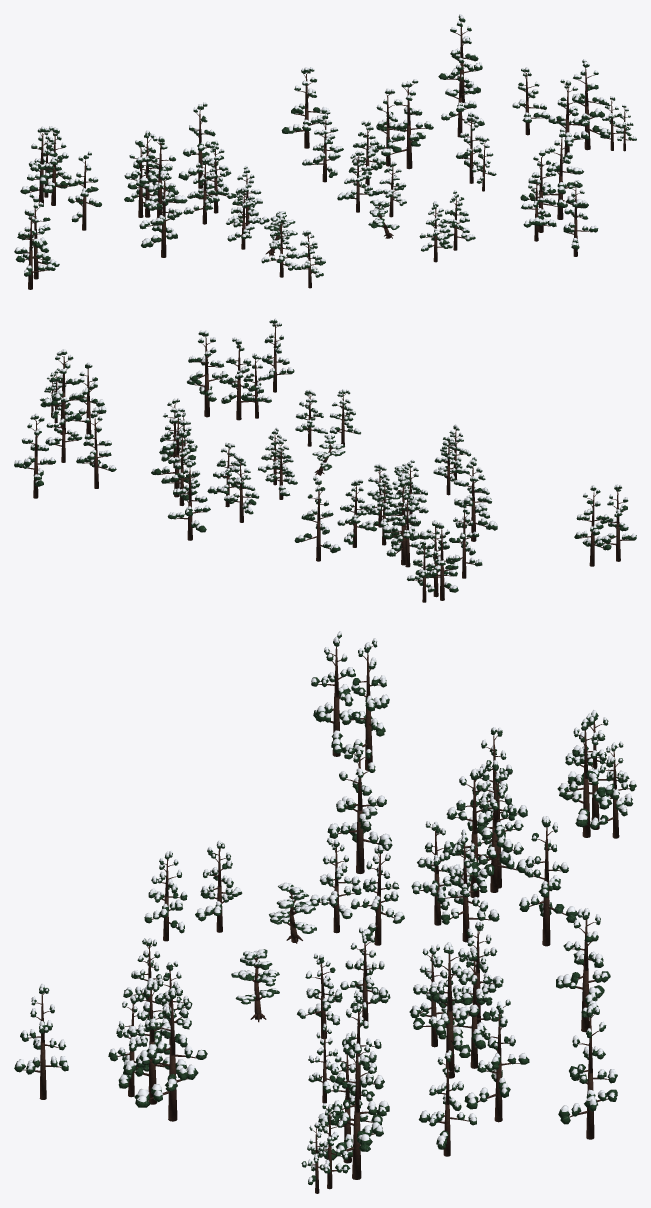
The model's file is winter_pines.glb.
The picture shows the model from 3 angles, top to bottom: view 1: azimuth 30°, elevation 25°; view 2: azimuth 150°, elevation 25°; view 3: azimuth 270°, elevation 25°; orthographic projection. The views are drawn at different scales.
Parts seen in each view (by area): view 1: PineFoliageClusters, PineBranchSnowCushions, PineTrunksAndBranches; view 2: PineFoliageClusters, PineBranchSnowCushions, PineTrunksAndBranches; view 3: PineFoliageClusters, PineBranchSnowCushions, PineTrunksAndBranches.
Part boxes in pixels (left/top/right/bottom): PineFoliageClusters: left=14, top=16, right=636, bottom=277; PineBranchSnowCushions: left=15, top=14, right=636, bottom=275; PineTrunksAndBranches: left=22, top=22, right=632, bottom=289; PineFoliageClusters: left=14, top=320, right=636, bottom=592; PineBranchSnowCushions: left=14, top=318, right=636, bottom=589; PineTrunksAndBranches: left=21, top=323, right=632, bottom=602; PineFoliageClusters: left=14, top=634, right=636, bottom=1184; PineBranchSnowCushions: left=16, top=631, right=635, bottom=1182; PineTrunksAndBranches: left=22, top=645, right=629, bottom=1193.
Bounding box in the file's own units: 67.94 × 10.51 × 39.42.
3 materials, 3 textured.
